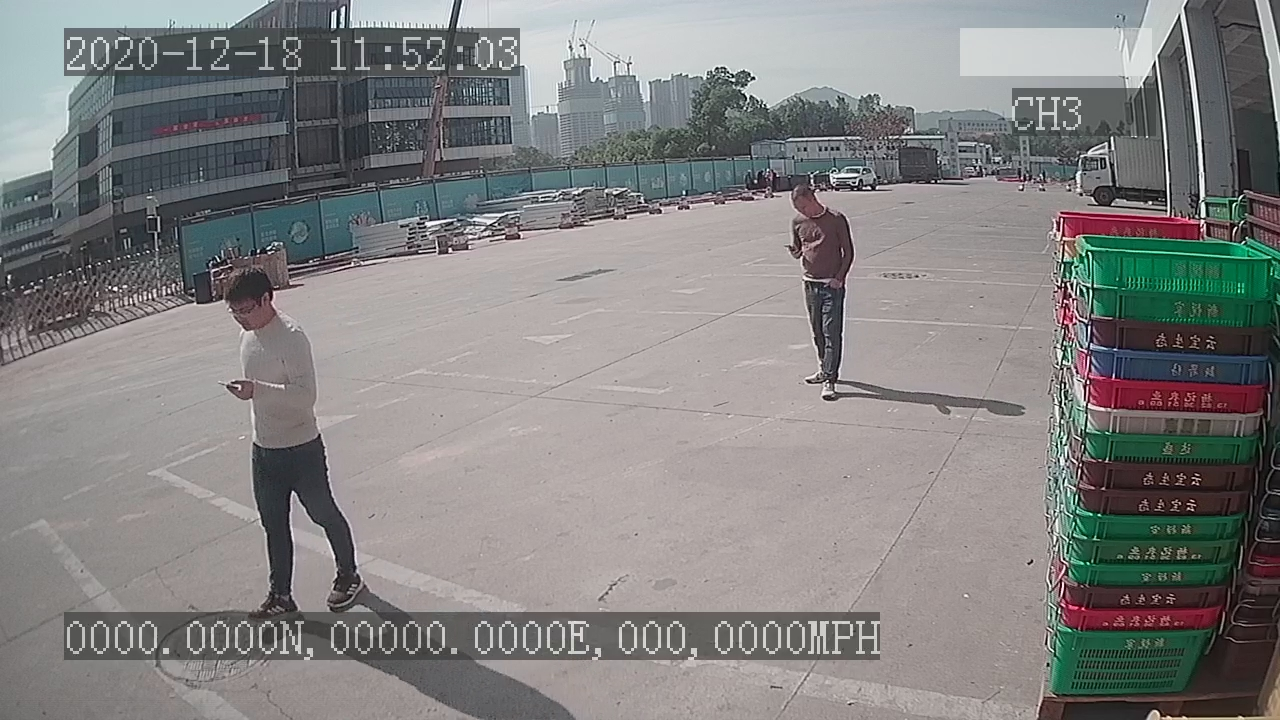person: (211, 263, 370, 606), (779, 179, 858, 410)
